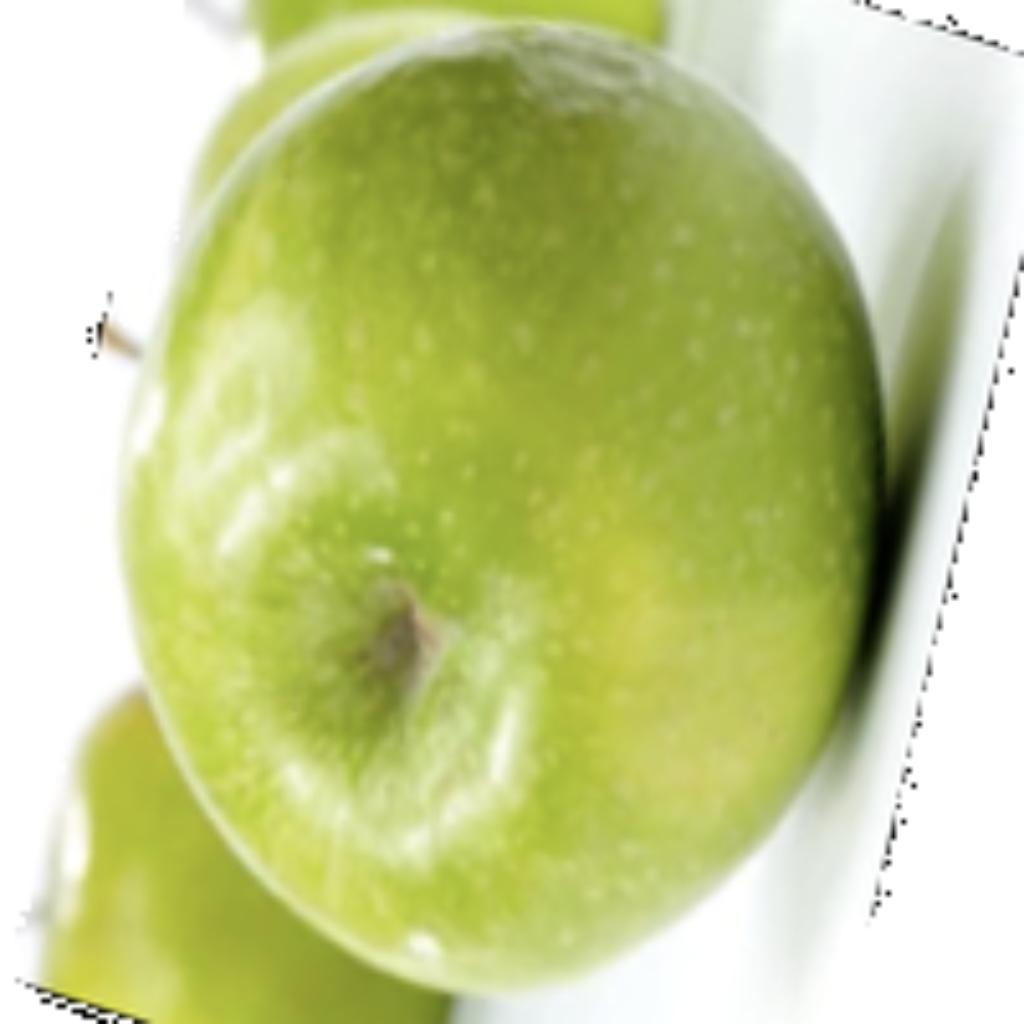apple: (10, 0, 1019, 1019)
